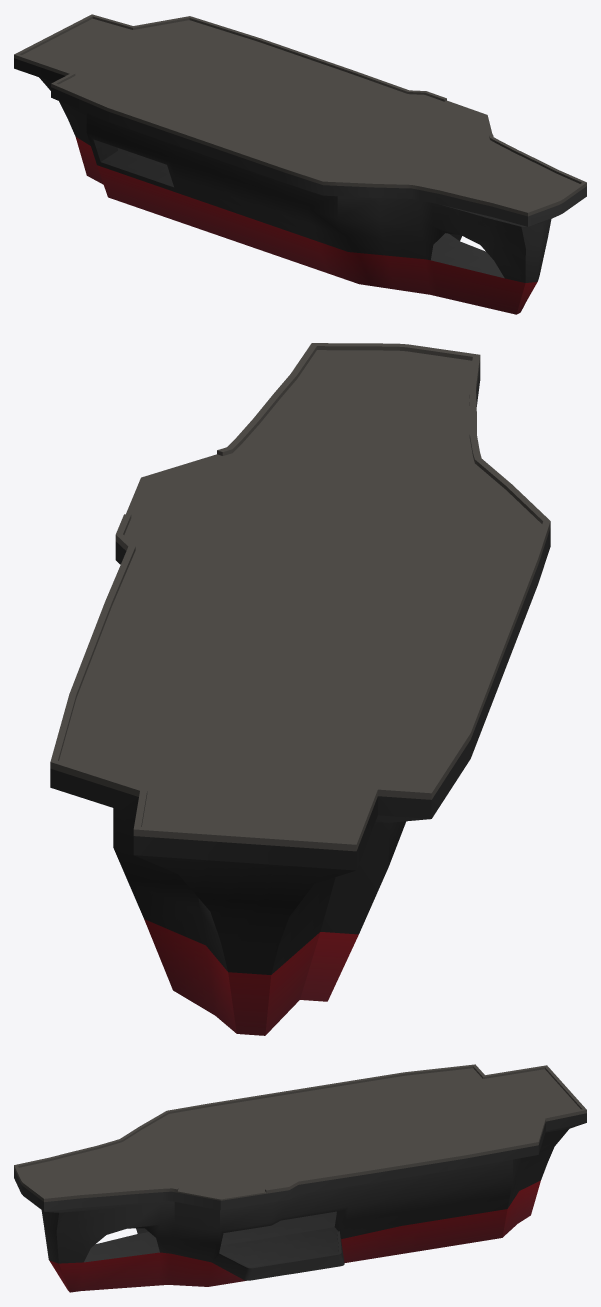
Rendered from portaviones_02.fbx.
3 views of the same model, one above another, from view 1: azimuth 30°, elevation 25°; view 2: azimuth 150°, elevation 25°; view 3: azimuth 270°, elevation 25° (orthographic). The views are drawn at different scales.
Parts seen in each view (by area): view 1: PortaAviones.004; view 2: PortaAviones.004; view 3: PortaAviones.004.
Boxes of the visible parts, x1,y1,x2,y2 form: PortaAviones.004: (14, 14, 586, 314); PortaAviones.004: (50, 343, 550, 1035); PortaAviones.004: (14, 1064, 586, 1292).
Size of the model in its own units: 10251 by 4157 by 18452.
